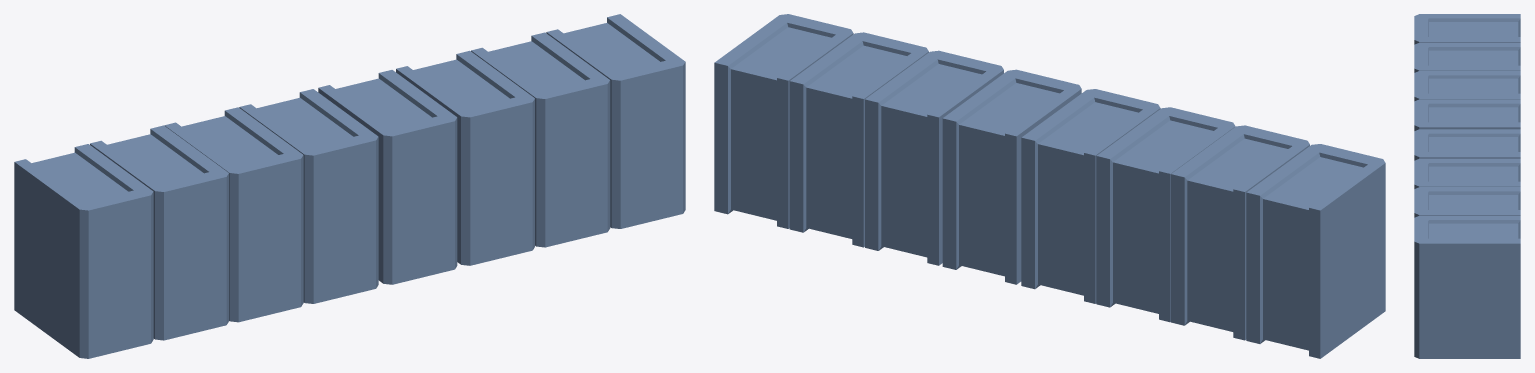
File: bookstack1.fbx
3 renders of one model, left to right at view 1: azimuth 30°, elevation 25°; view 2: azimuth 150°, elevation 25°; view 3: azimuth 270°, elevation 25°, orthographic. The views are drawn at different scales.
Visible parts, largest first — view 1: bookstack1; view 2: bookstack1; view 3: bookstack1.
Part boxes in pixels (box(x1,y1,x2,y2)): bookstack1: box(14, 14, 685, 358); bookstack1: box(714, 14, 1385, 358); bookstack1: box(1414, 14, 1520, 358).
Size of the model in its own units: 82.78 by 19.37 by 16.19.
